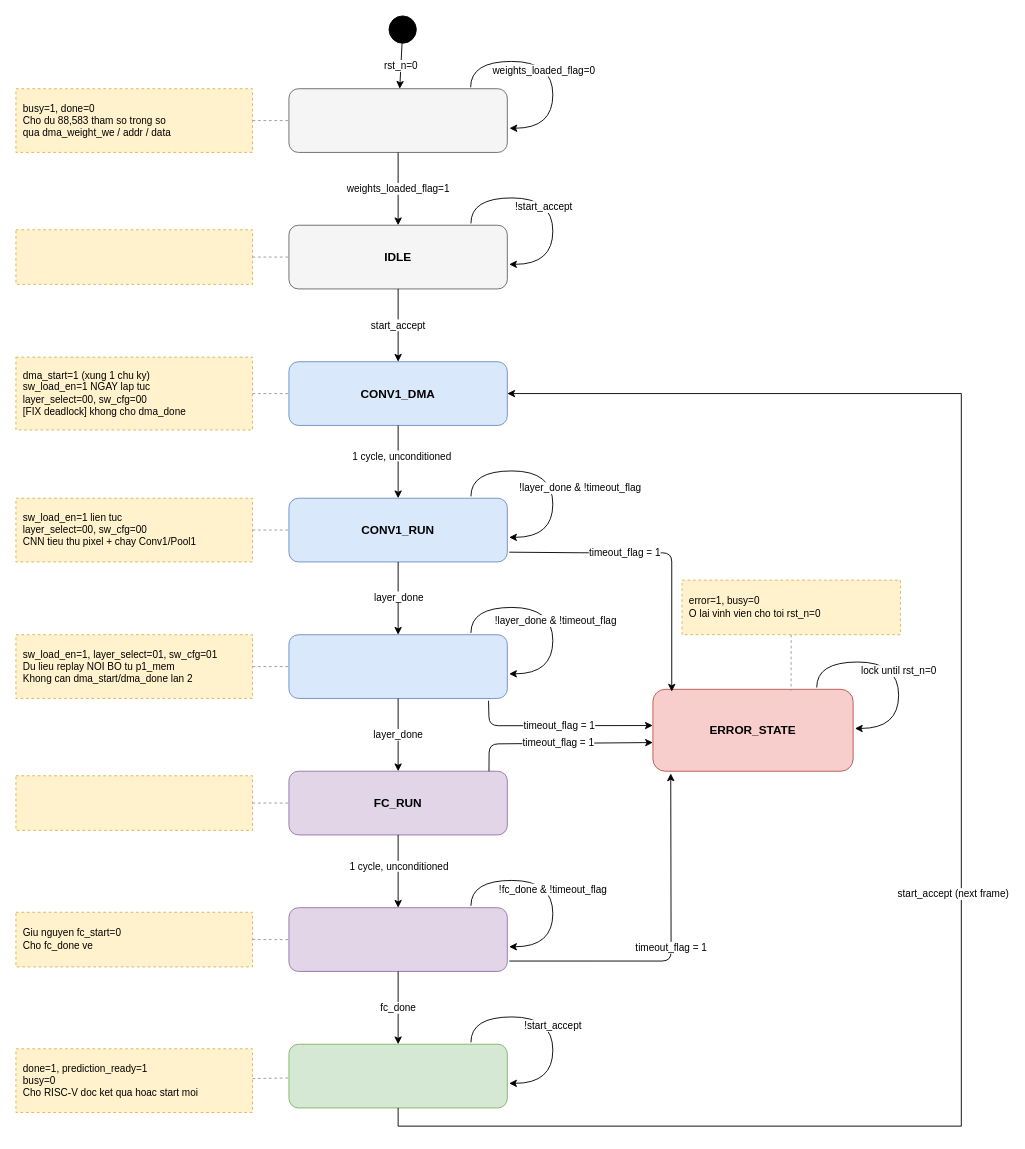
The diagram is 1025 pixels wide and 1149 high, and some of its shapes have lost their labels. Each missing label, with the box of its shape:
busy=0 San sang nhan start tu RISC-V: (15, 229, 253, 284)
CONV2_RUN: (288, 634, 507, 698)
fc_start=1 (xung 1 chu ky) Kich hoat FC1 - FC2 - FC3 - argmax: (15, 775, 253, 830)
FC_WAIT_DONE: (288, 907, 507, 971)
FINISH: (288, 1043, 507, 1108)
WAIT_WEIGHTS: (288, 88, 507, 152)
